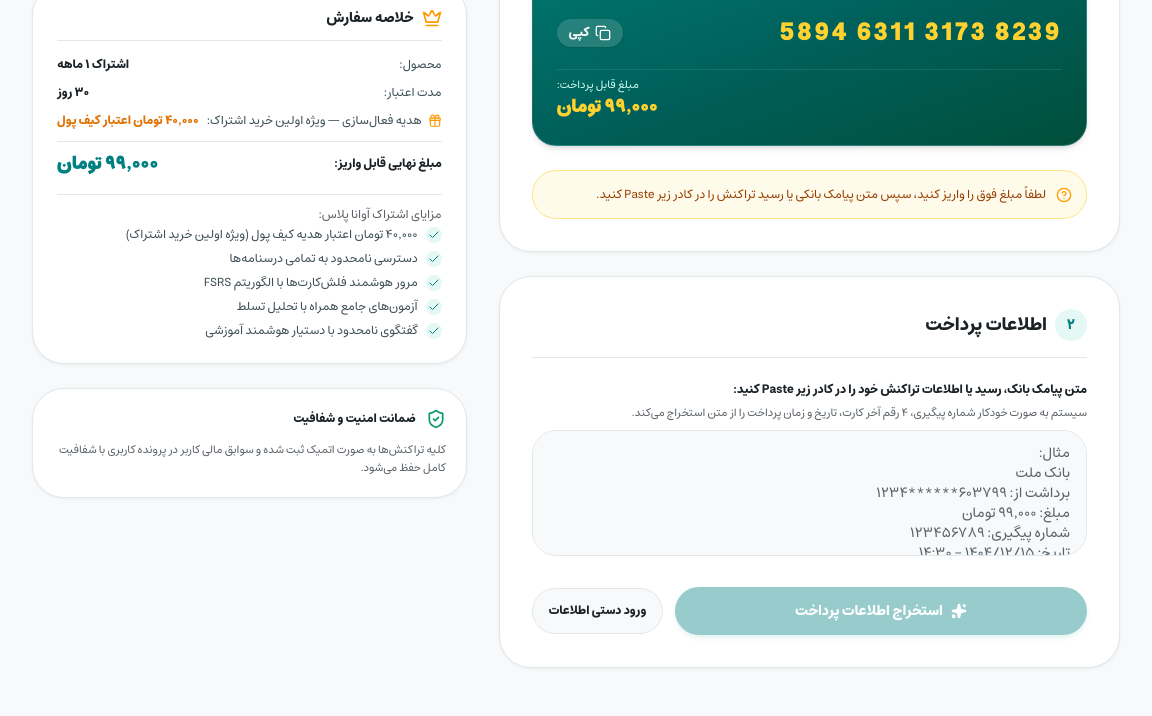
Scenario: Pricing & Card-to-Card UX Refactor Suite › 8. Prevents submission with invalid last4 and displays validation error
(page scrolled)
Click the button "ورود دستی اطلاعات". click: [597, 611]
box: [532,588,663,634]
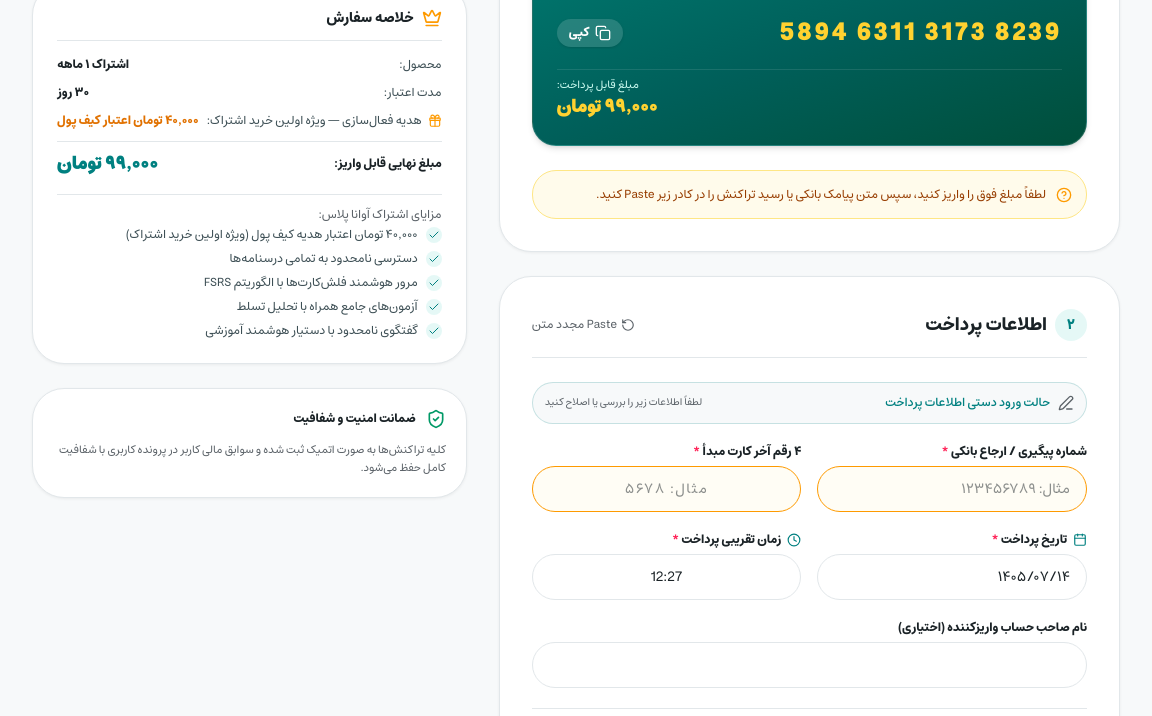
Type "TRK-VALID" into the field with placeholder "مثال: ۱۲۳۴۵۶۷۸۹". click: [952, 489]
box: [817,466,1087,512]
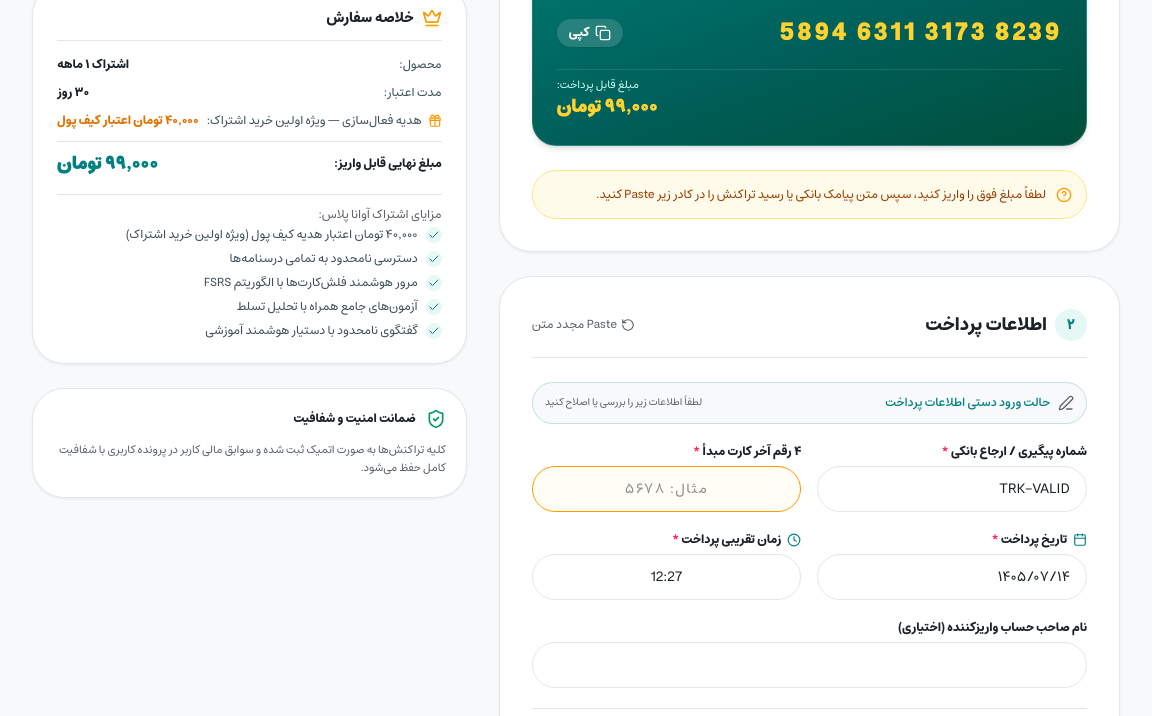
Type "99" into the field with placeholder "مثال: ۵۶۷۸". click: [667, 489]
box: [532,466,801,512]
(page scrolled)
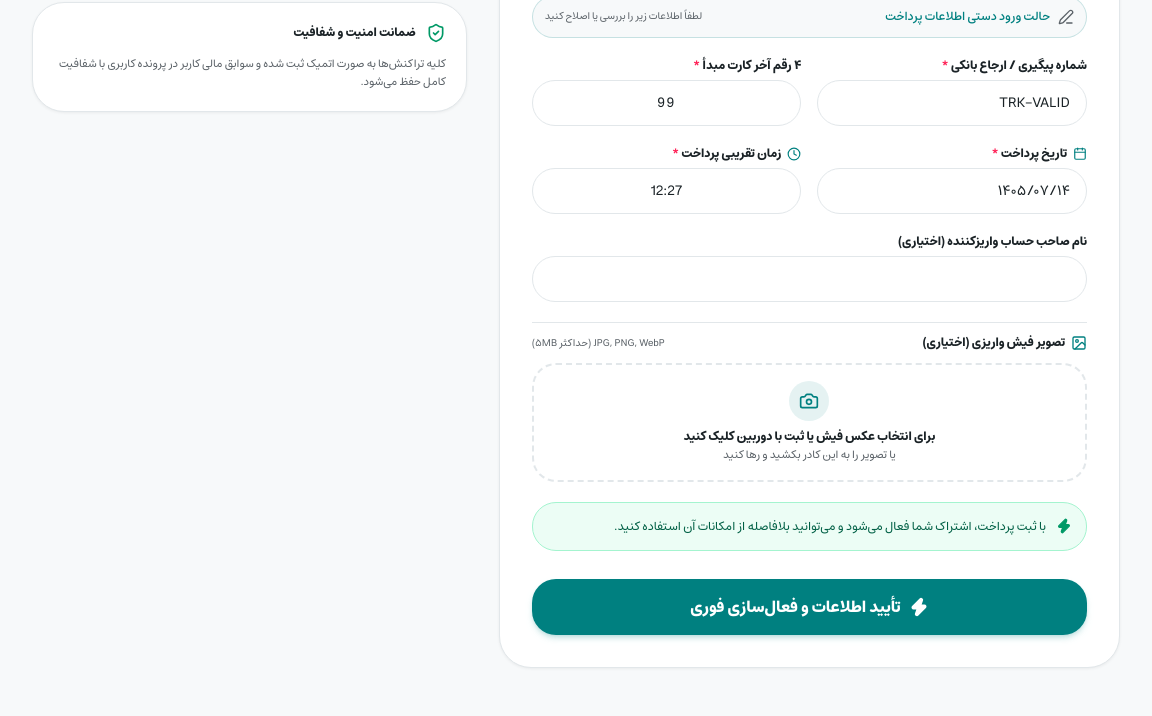
Click the button "تأیید اطلاعات و فعال‌سازی فوری". click: [809, 607]
box: [532,579,1087,635]
(page scrolled)
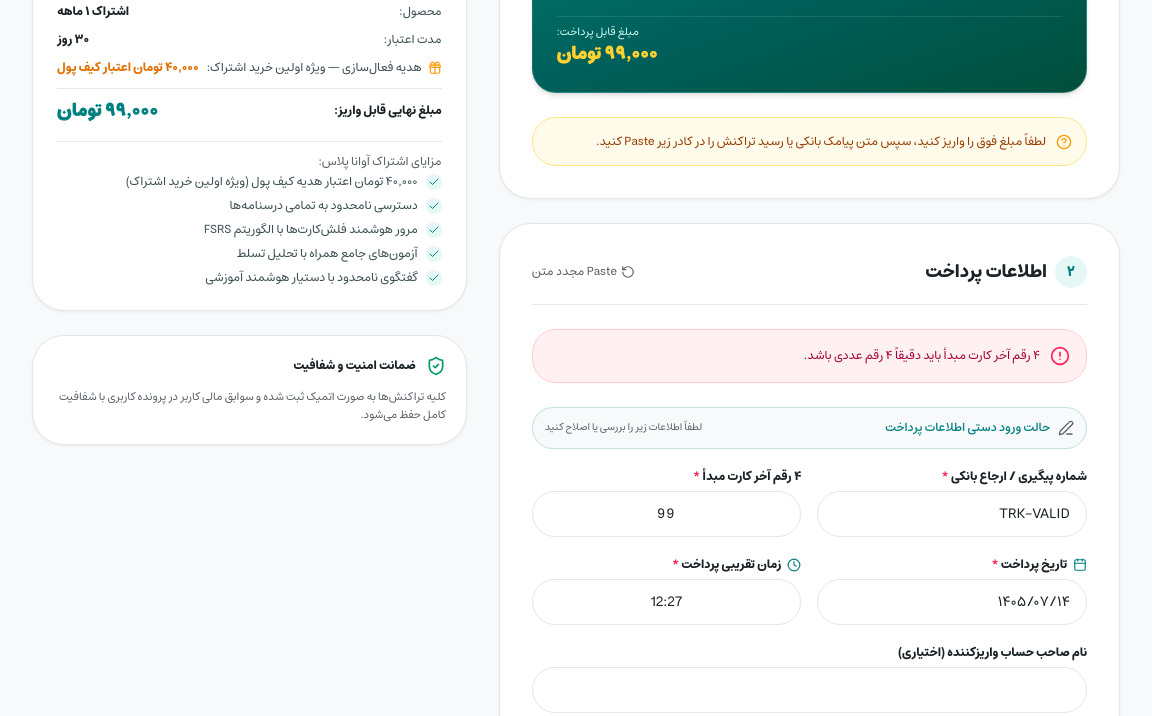
expect the text "۴ رقم آخر کارت مبدأ باید دقیقاً ۴ رقم عددی باشد." is shown: met, box [804,348,1040,364]
